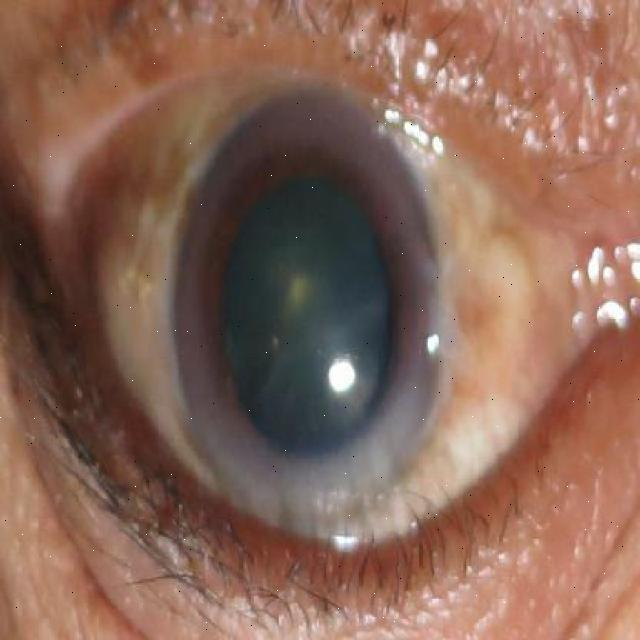Cataract: (178, 78, 449, 513)
